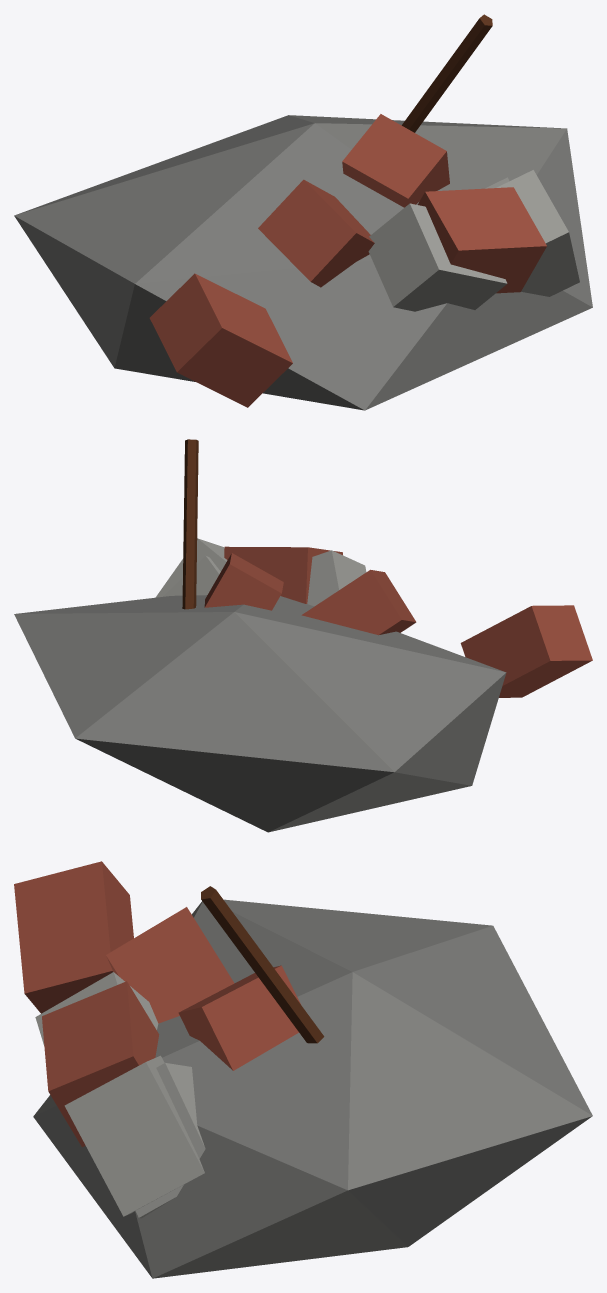
The model's file is rubble_pile.glb.
The picture shows the model from 3 angles, top to bottom: view 1: azimuth 30°, elevation 25°; view 2: azimuth 150°, elevation 25°; view 3: azimuth 270°, elevation 25°; orthographic projection. The views are drawn at different scales.
Parts seen in each view (by area): view 1: rubble_pile; view 2: rubble_pile; view 3: rubble_pile.
Part boxes in pixels (left/top/right/bottom): rubble_pile: left=14, top=14, right=592, bottom=410; rubble_pile: left=14, top=439, right=592, bottom=832; rubble_pile: left=14, top=861, right=592, bottom=1278.
Bounding box in the file's own units: 2.23 × 1.39 × 1.84.
